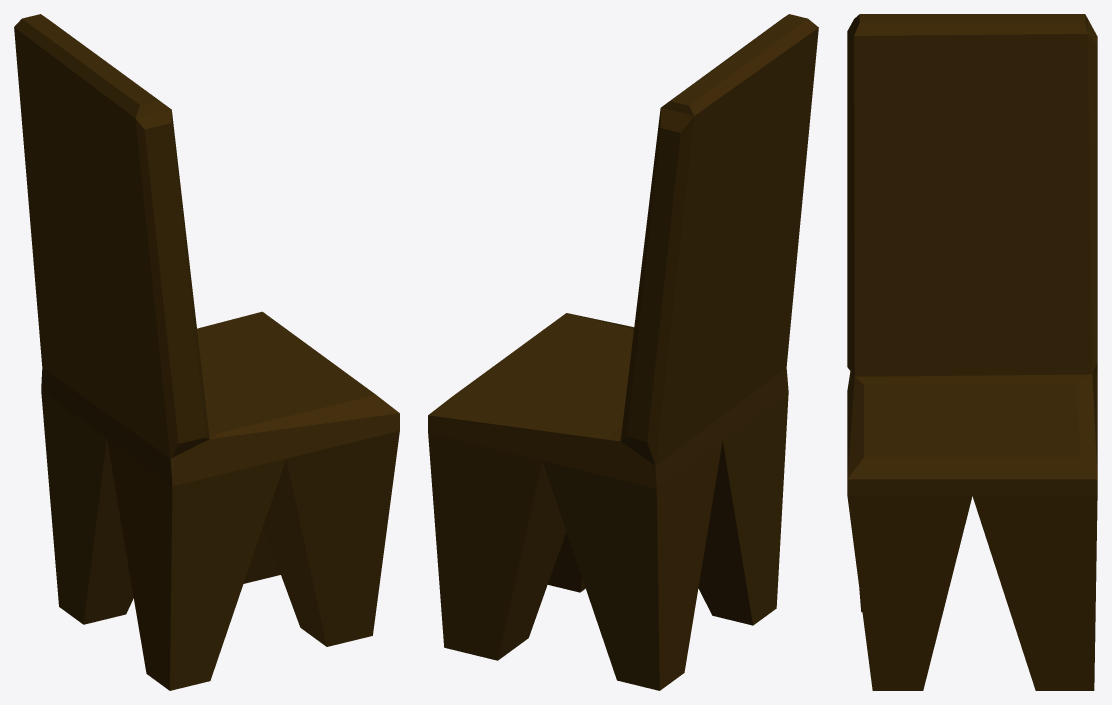
File: Chair.glb
The picture shows the model from 3 angles, left to right: view 1: azimuth 30°, elevation 25°; view 2: azimuth 150°, elevation 25°; view 3: azimuth 270°, elevation 25°; orthographic projection. The views are drawn at different scales.
Parts seen in each view (by area): view 1: Cube; view 2: Cube; view 3: Cube.
Boxes of the visible parts, left/top/right/bottom form: Cube: left=14, top=14, right=399, bottom=690; Cube: left=428, top=14, right=818, bottom=690; Cube: left=847, top=14, right=1097, bottom=690.
Bounding box in the file's own units: 2.29 × 4.99 × 2.
